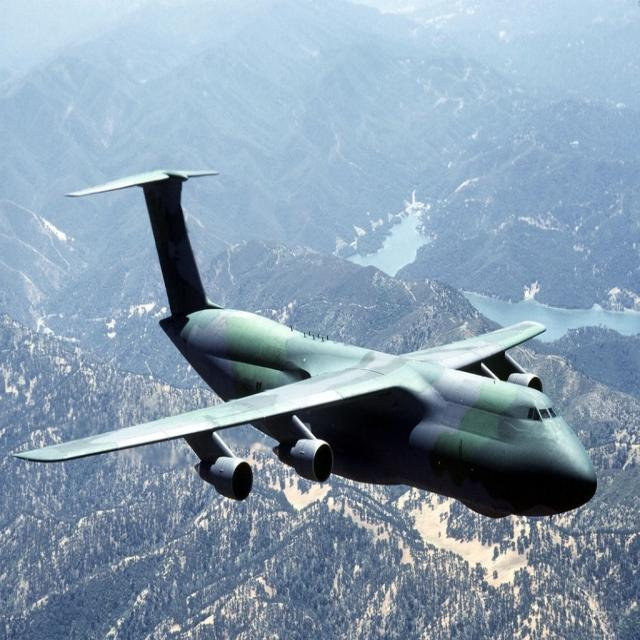C5: (1, 142, 624, 575)
